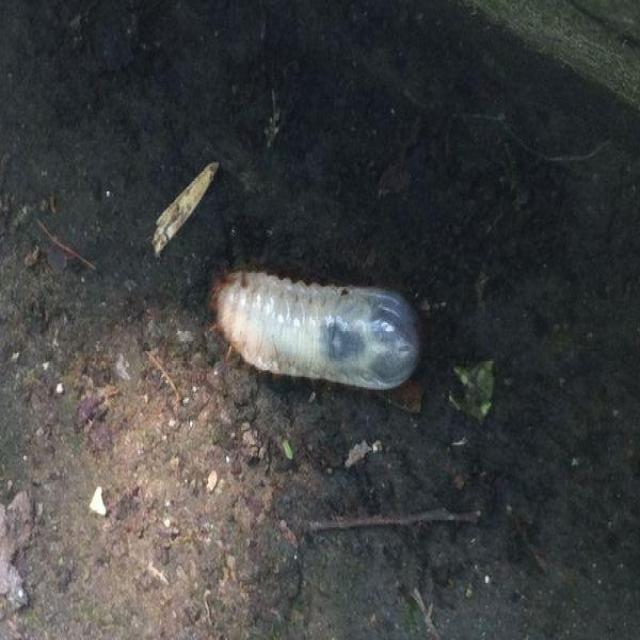Grub-Adult-: (202, 250, 429, 410)
